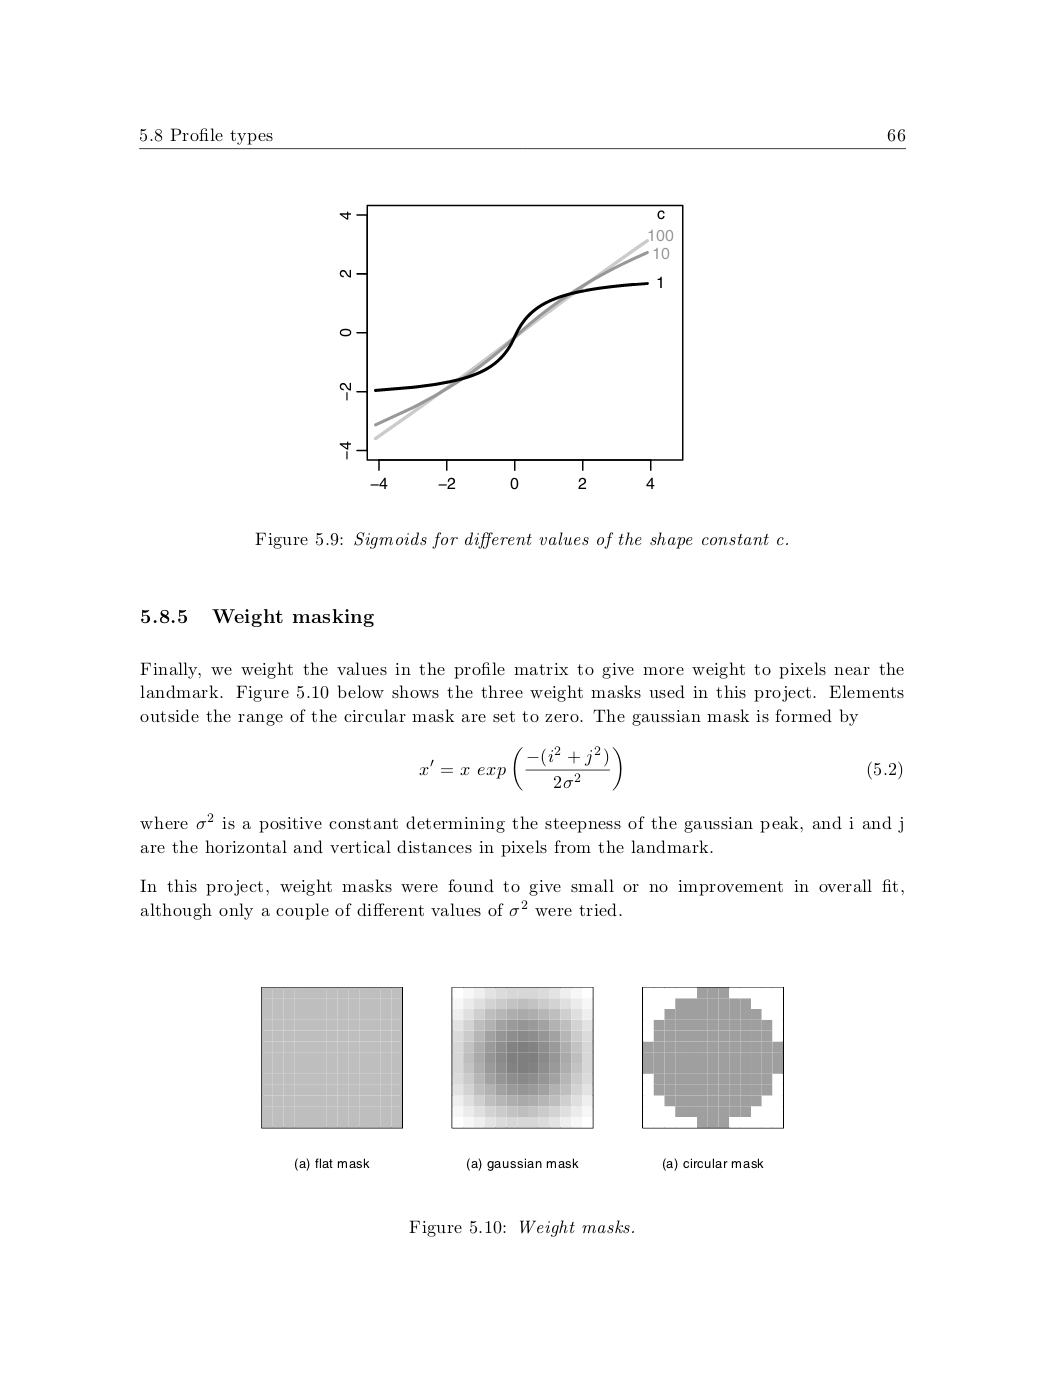figure: (339, 204, 683, 489), (261, 987, 402, 1128), (451, 987, 593, 1128), (642, 987, 783, 1128)
formula: (419, 744, 902, 791)
